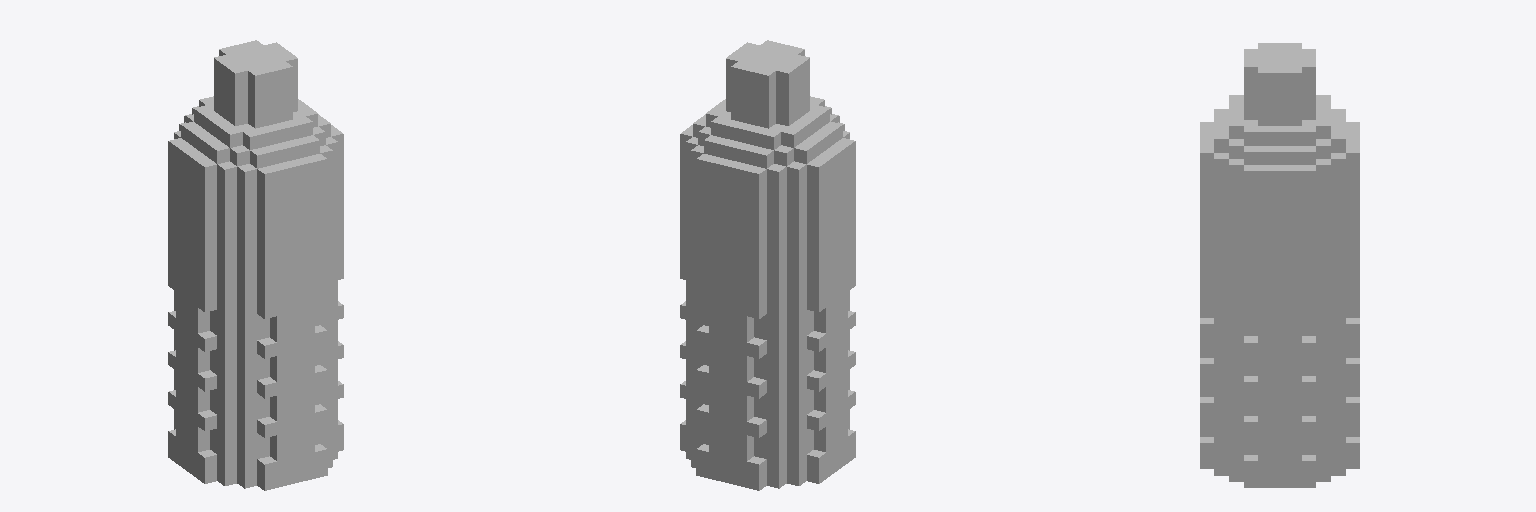
File: Water.obj
The picture shows the model from 3 angles: view 1: azimuth 30°, elevation 25°; view 2: azimuth 150°, elevation 25°; view 3: azimuth 270°, elevation 25°; orthographic projection.
Parts seen in each view (by area): view 1: object 1; view 2: object 1; view 3: object 1.
Boxes of the visible parts, x1=… form: object 1: x1=168, y1=40, x2=343, y2=490; object 1: x1=680, y1=40, x2=855, y2=490; object 1: x1=1200, y1=43, x2=1359, y2=487.
Bounding box in the file's own units: 1.1 × 3 × 1.1.